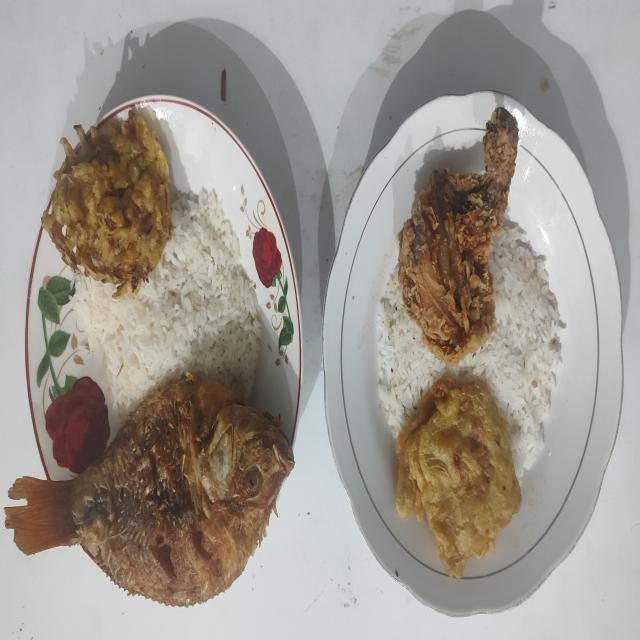ikan_mujair: (5, 372, 294, 606)
nasi_putih: (378, 220, 564, 477), (72, 190, 262, 416)
